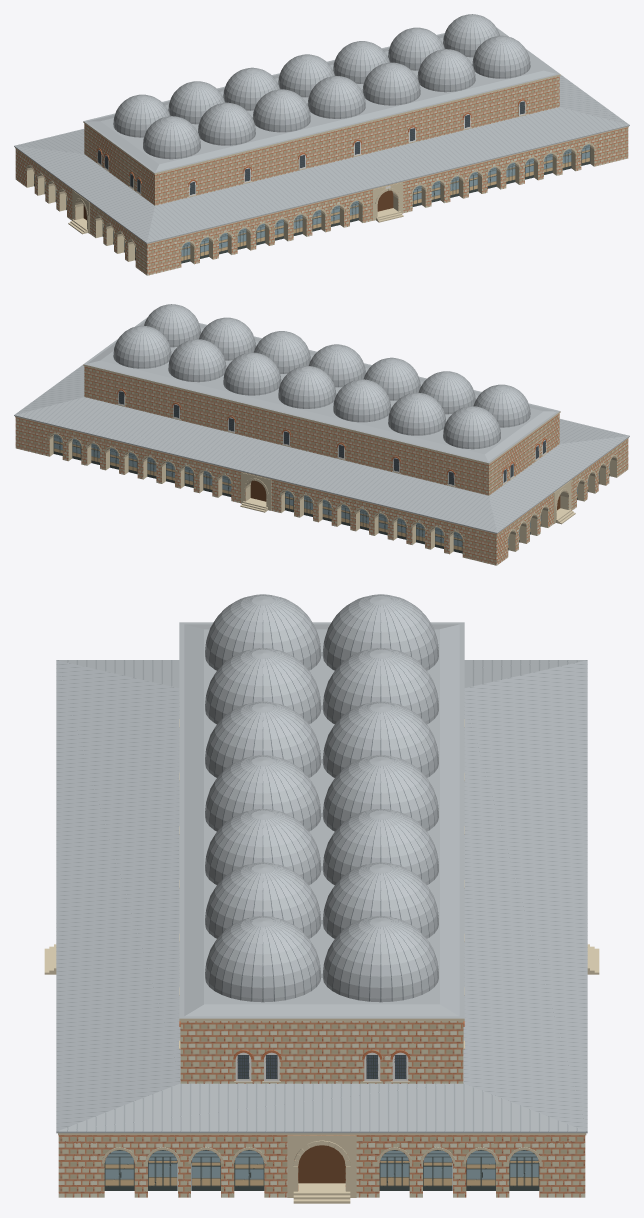
Rendered from bedesten_v11.glb.
3 renders of one model, top to bottom at view 1: azimuth 30°, elevation 25°; view 2: azimuth 150°, elevation 25°; view 3: azimuth 270°, elevation 25°, orthographic. The views are drawn at different scales.
Visible parts, largest first — view 1: Dukkanlar, Kubbeler, Govde, Govde_Ortu, Kapilar; view 2: Dukkanlar, Kubbeler, Govde, Govde_Ortu, Kapilar; view 3: Dukkanlar, Kubbeler, Govde_Ortu, Govde, Kapilar.
Boxes of the visible parts, box(x1,y1,x2,y2) form: Dukkanlar: box(14, 27, 629, 275); Kubbeler: box(113, 14, 530, 159); Govde: box(84, 29, 559, 205); Govde_Ortu: box(87, 31, 556, 171); Kapilar: box(68, 182, 403, 234); Dukkanlar: box(14, 317, 629, 565); Kubbeler: box(113, 304, 530, 449); Govde: box(84, 319, 559, 495); Govde_Ortu: box(87, 321, 556, 461); Kapilar: box(240, 472, 575, 524); Dukkanlar: box(56, 622, 587, 1197); Kubbeler: box(205, 594, 438, 1002); Govde_Ortu: box(184, 624, 459, 1016); Govde: box(179, 623, 464, 1083); Kapilar: box(44, 944, 599, 1203).
Size of the model in its own units: 72.5 by 14.2 by 35.3.
11 materials, 5 textured.
